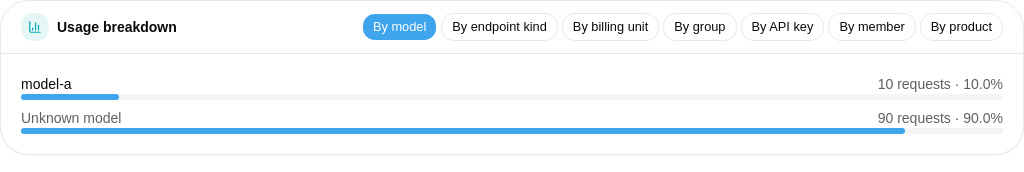
Scenario: RankingsPanel rows with no name › says "Unknown" (not "Unknown model") for another dimension
expect the list with test id "rankings-rows" is shown: met, box left=21, top=74, right=1003, bottom=134
Click the radio button with test id "rankings-by-group".
click(700, 27)  # box left=663, top=13, right=736, bottom=41
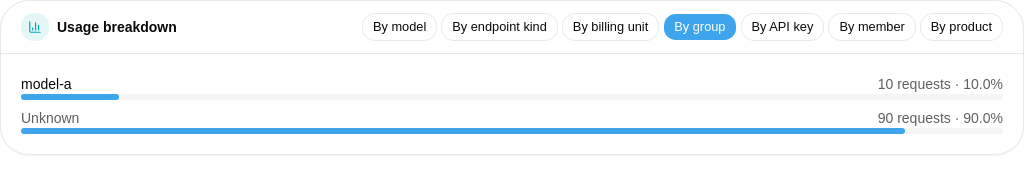
expect the list item "Unknown 90 requests · 90.0%" is shown: met, box left=21, top=108, right=1003, bottom=134
expect the list with test id "rankings-rows" no longer shows "Unknown model": met, box left=21, top=74, right=1003, bottom=134
